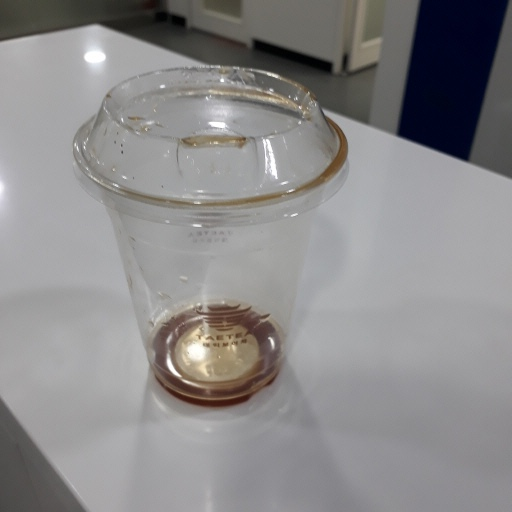Plastic_2: (67, 64, 353, 408)
